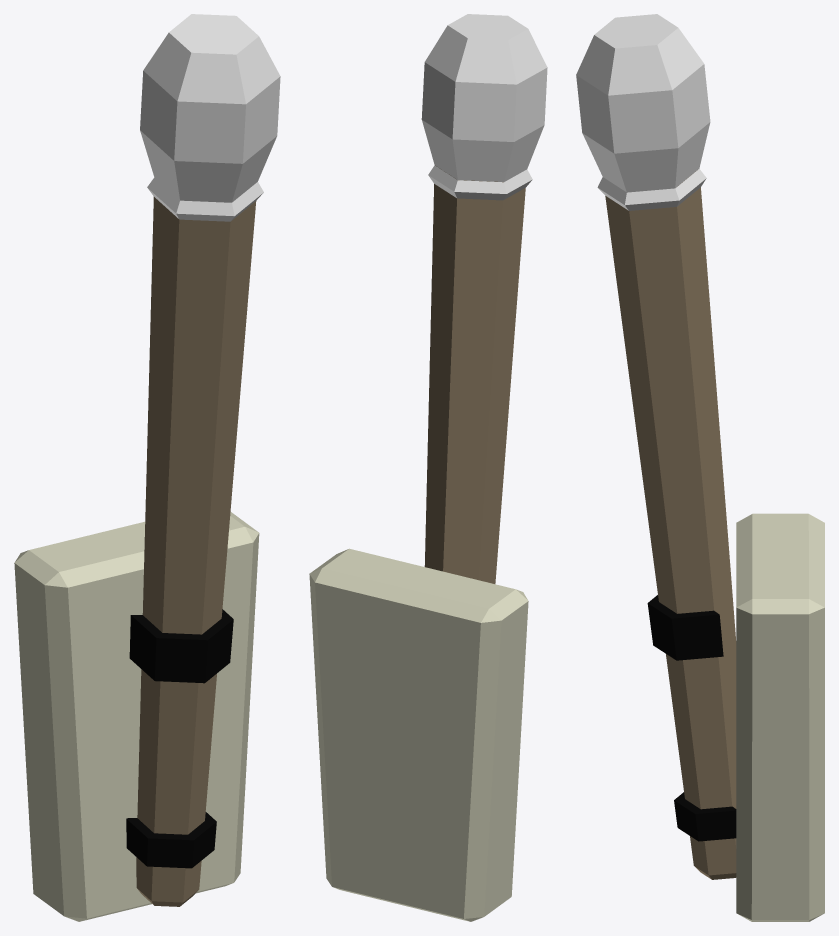
File: Torch.fbx
3 views of the same model, side by side, from view 1: azimuth 30°, elevation 25°; view 2: azimuth 150°, elevation 25°; view 3: azimuth 270°, elevation 25° (orthographic). The views are drawn at different scales.
Visible parts, largest first — view 1: Torch2; view 2: Torch2; view 3: Torch2.
Part boxes in pixels (x1,y1,x2,y2): Torch2: (14, 14, 280, 921); Torch2: (309, 14, 547, 921); Torch2: (576, 14, 824, 921).
Size of the model in its own units: 58.77 by 240 by 62.93.
